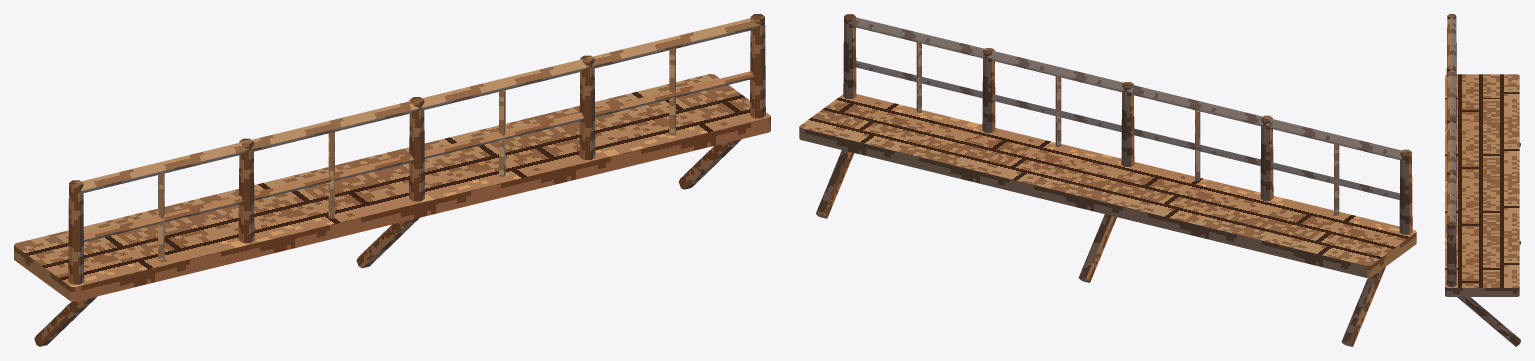
File: wtown.balcony__wide.glb
3 renders of one model, left to right at view 1: azimuth 30°, elevation 25°; view 2: azimuth 150°, elevation 25°; view 3: azimuth 270°, elevation 25°, orthographic. The views are drawn at different scales.
Parts seen in each view (by area): view 1: kit_deck, kit_railing, kit_brackets; view 2: kit_deck, kit_railing, kit_brackets; view 3: kit_deck, kit_railing, kit_brackets.
Boxes of the visible parts, left/top/right/bottom form: kit_deck: left=14, top=74, right=770, bottom=301; kit_railing: left=68, top=14, right=765, bottom=284; kit_brackets: left=34, top=139, right=741, bottom=346; kit_deck: left=799, top=94, right=1416, bottom=277; kit_railing: left=843, top=14, right=1412, bottom=234; kit_brackets: left=816, top=150, right=1385, bottom=346; kit_deck: left=1445, top=74, right=1519, bottom=296; kit_railing: left=1446, top=14, right=1456, bottom=286; kit_brackets: left=1457, top=142, right=1520, bottom=346.
Size of the model in its own units: 7.5 by 2.1 by 1.13.
4 materials, 4 textured.
